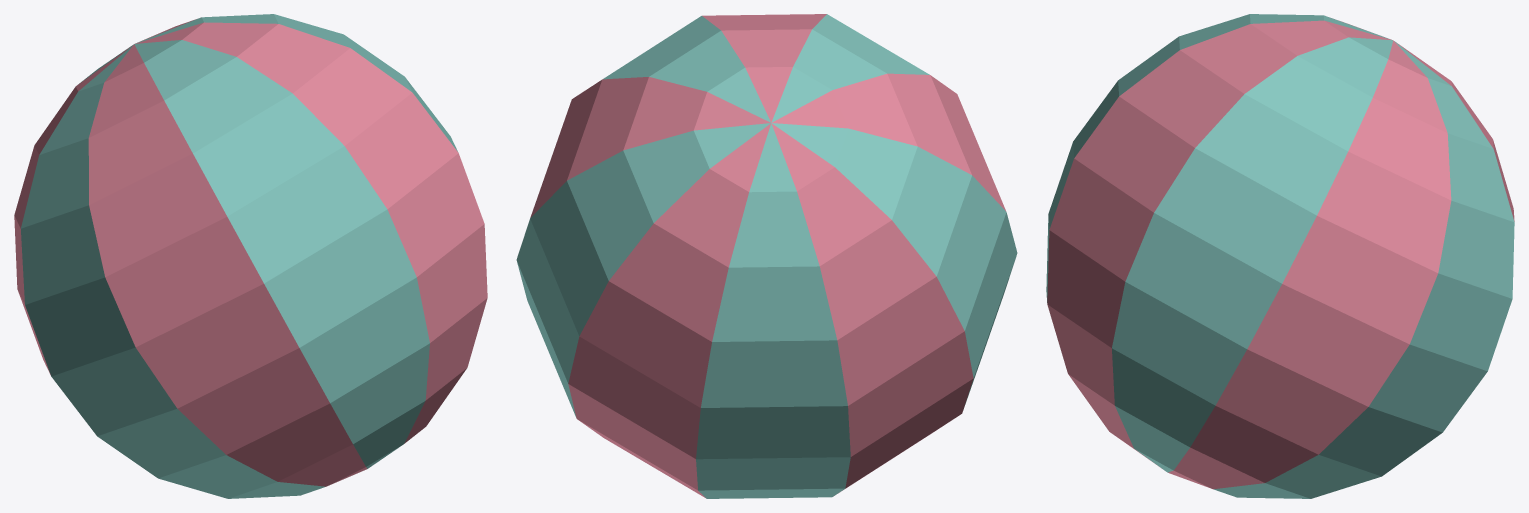
The model's file is Livingroom2_Ball.fbx.
3 renders of one model, left to right at view 1: azimuth 30°, elevation 25°; view 2: azimuth 150°, elevation 25°; view 3: azimuth 270°, elevation 25°, orthographic. The views are drawn at different scales.
Parts seen in each view (by area): view 1: Livingroom2_Ball; view 2: Livingroom2_Ball; view 3: Livingroom2_Ball.
Part boxes in pixels (left/top/right/bottom): Livingroom2_Ball: left=14, top=14, right=487, bottom=498; Livingroom2_Ball: left=516, top=14, right=1017, bottom=498; Livingroom2_Ball: left=1046, top=14, right=1514, bottom=498.
Size of the model in its own units: 17.55 by 17.42 by 16.94.
